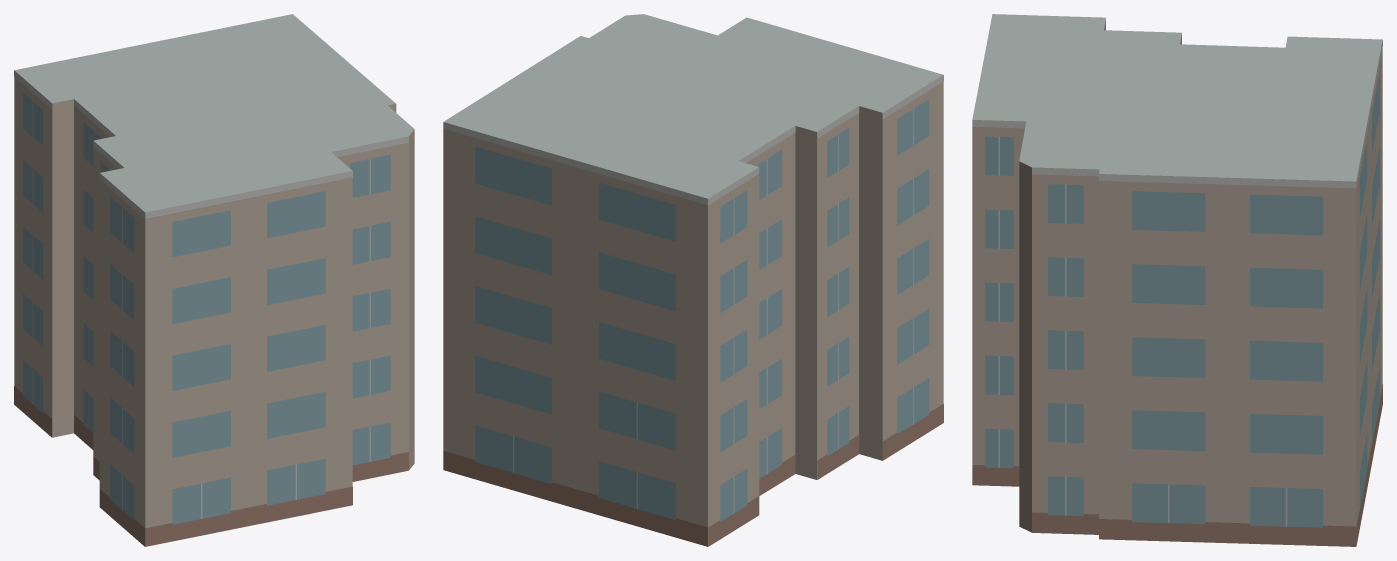
The model's file is survey-upis-32543090.glb.
3 renders of one model, left to right at view 1: azimuth 30°, elevation 25°; view 2: azimuth 150°, elevation 25°; view 3: azimuth 270°, elevation 25°, orthographic. The views are drawn at different scales.
Parts seen in each view (by area): view 1: survey-upis-32543090.tmp; view 2: survey-upis-32543090.tmp; view 3: survey-upis-32543090.tmp.
Boxes of the visible parts, left/top/right/bottom form: survey-upis-32543090.tmp: left=14, top=14, right=414, bottom=546; survey-upis-32543090.tmp: left=443, top=14, right=943, bottom=546; survey-upis-32543090.tmp: left=972, top=14, right=1382, bottom=546.
Size of the model in its own units: 12.6 by 12.8 by 13.04.
